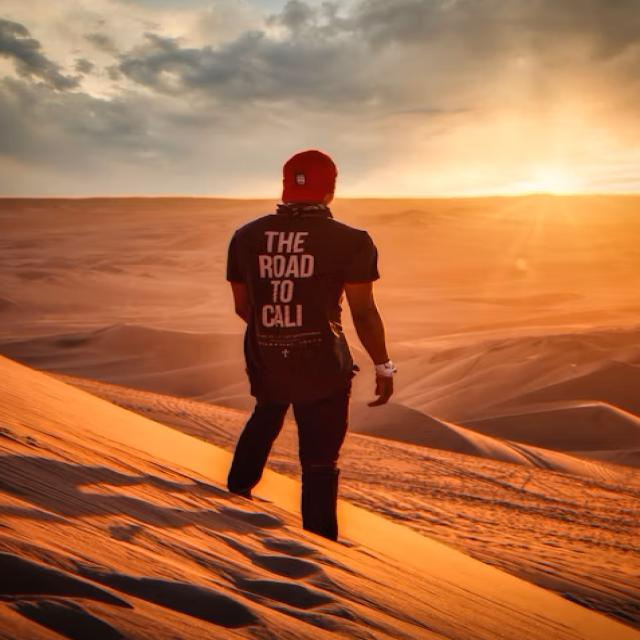Edited images: (209, 137, 415, 560)
